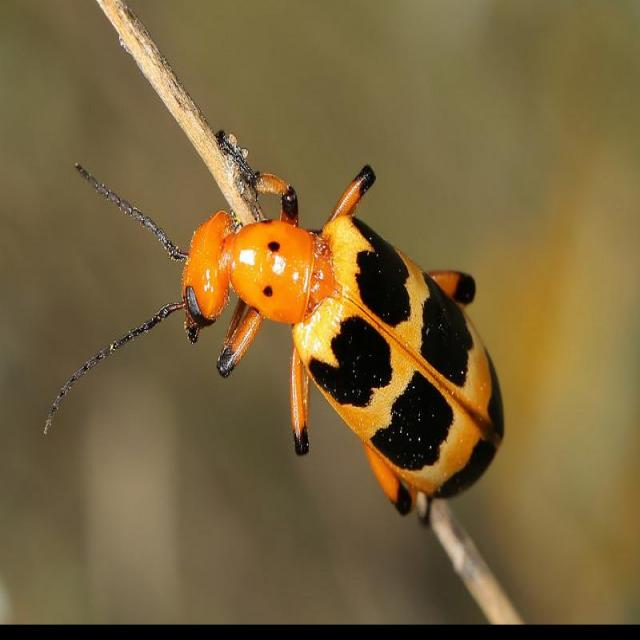BlisterBeetle-Adult-: (32, 114, 508, 534)
